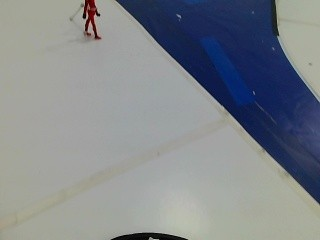pedestrian: (70, 0, 102, 42)
